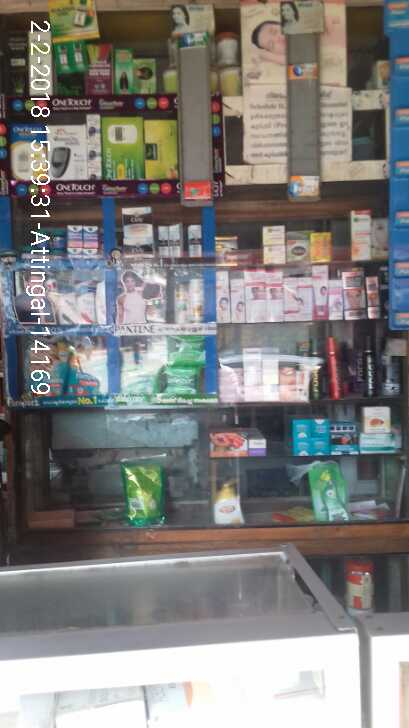vicks: (33, 227, 103, 260)
